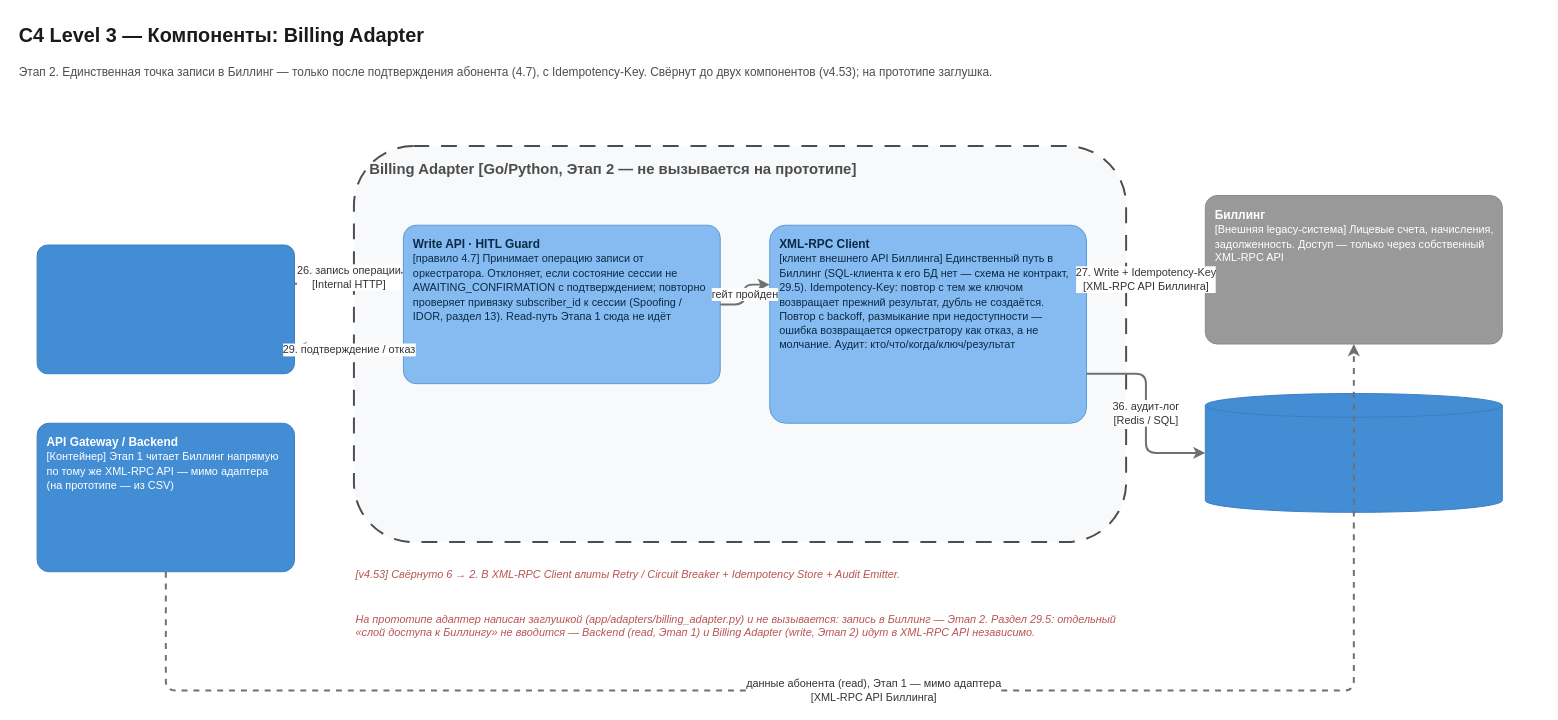
The diagram is 1558 pixels wide and 720 high, and some of its shapes have lost their labels. Each missing label, with the centre of its shape:
"Agent Orchestrator [Python] Шаг 26: запись операции после подтверждения" belongs at [165,309].
"Session State Store [Redis / PostgreSQL] Аудит-лог операций" belongs at [1353,452].
